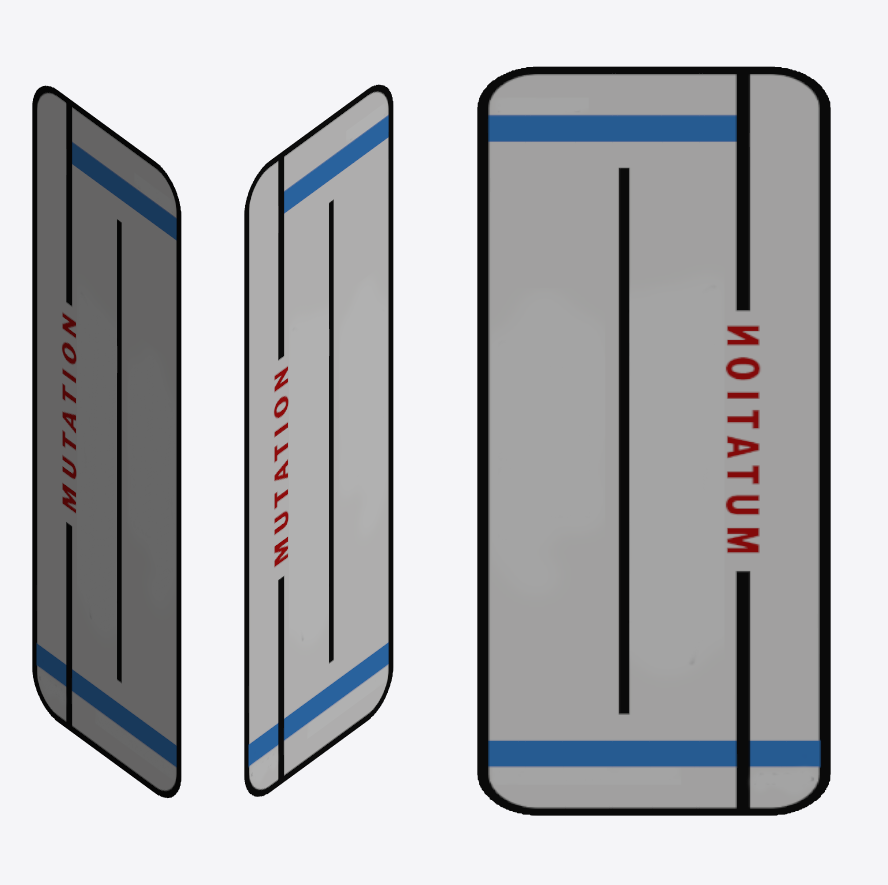
File: Lable.fbx
3 renders of one model, left to right at view 1: azimuth 30°, elevation 25°; view 2: azimuth 150°, elevation 25°; view 3: azimuth 270°, elevation 25°, orthographic. The views are drawn at different scales.
Parts seen in each view (by area): view 1: Plane002; view 2: Plane002; view 3: Plane002.
Part boxes in pixels (<box>): Plane002: <box>32,85,181,797</box>; Plane002: <box>244,84,393,796</box>; Plane002: <box>477,66,830,815</box>.
Size of the model in its own units: 1.29e-08 by 0.0544 by 0.025.
